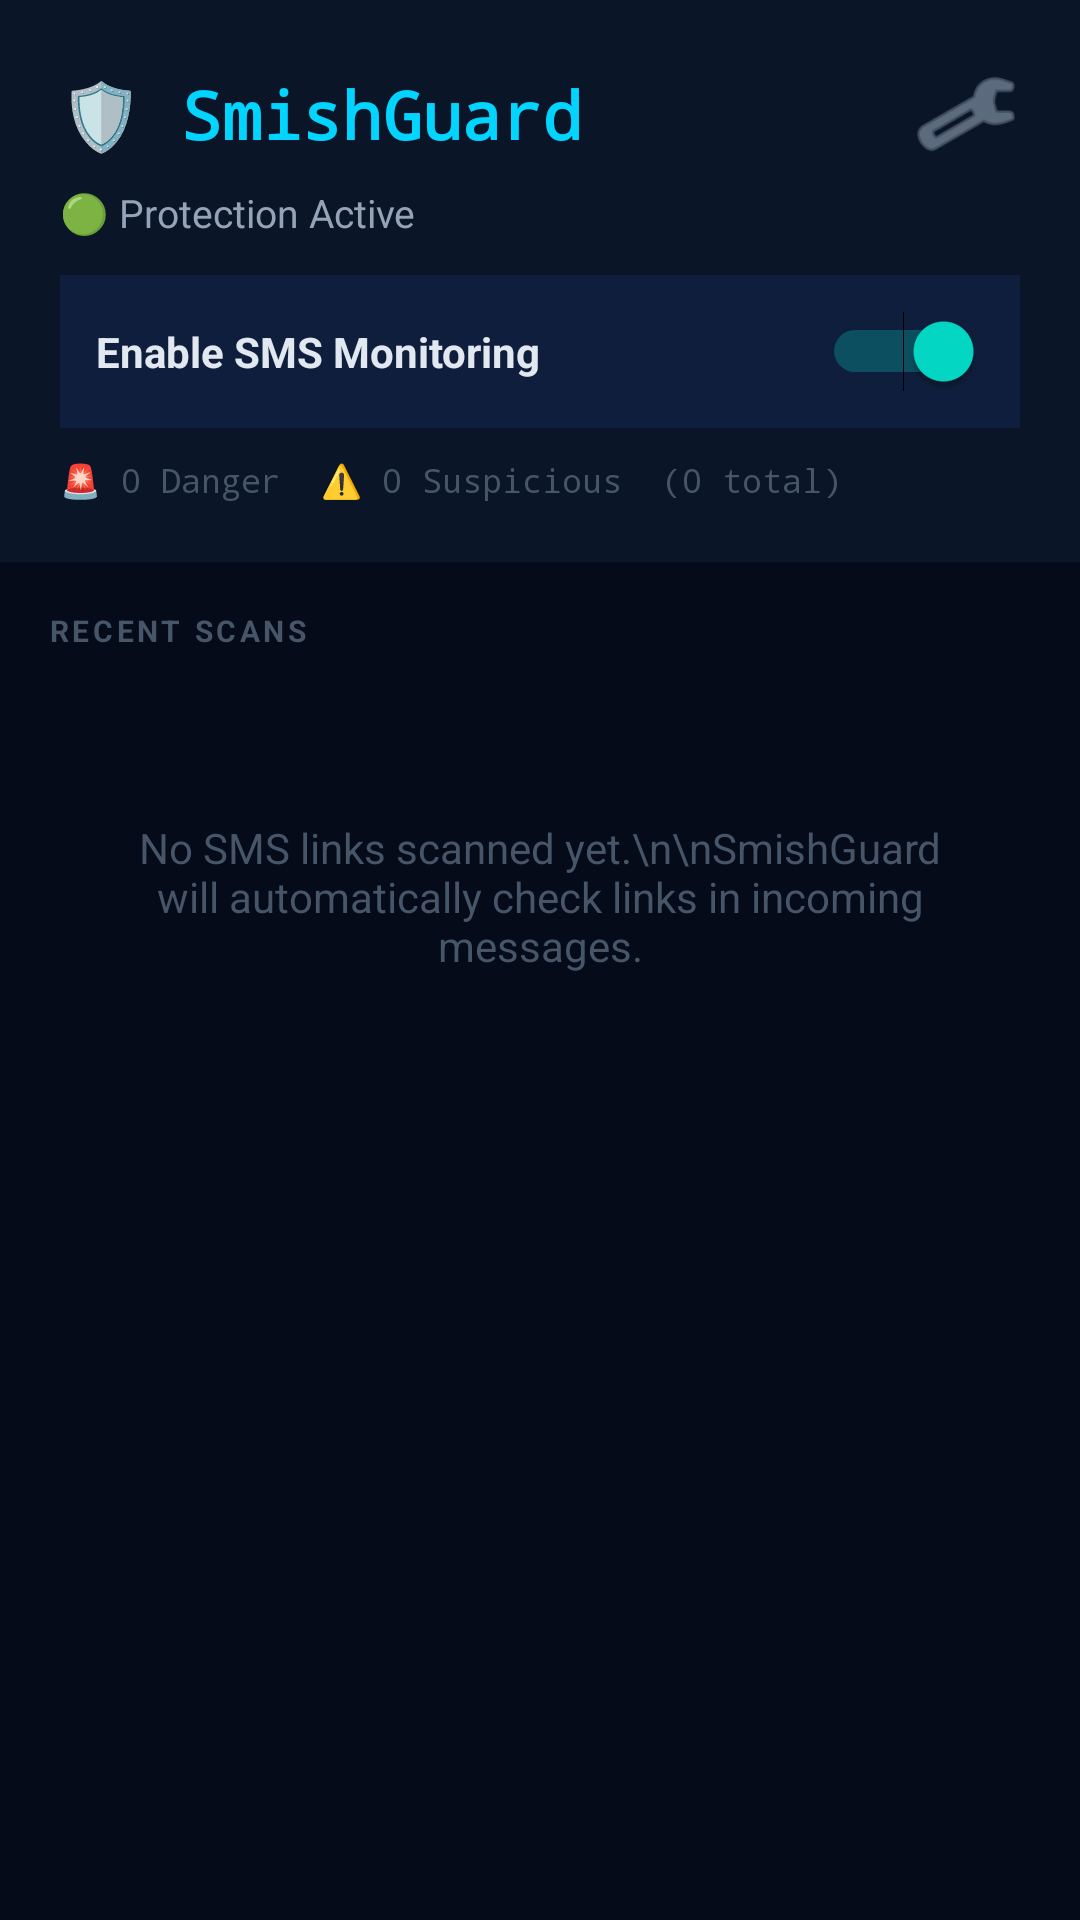

Icon bounding boxes for this 1080×1920 phone screenshot, format detection(x1, y1, x2, y2):
Settings: detection(917, 77, 1015, 151)
